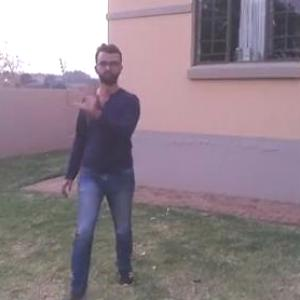follow_hand: (74, 76, 104, 111)
